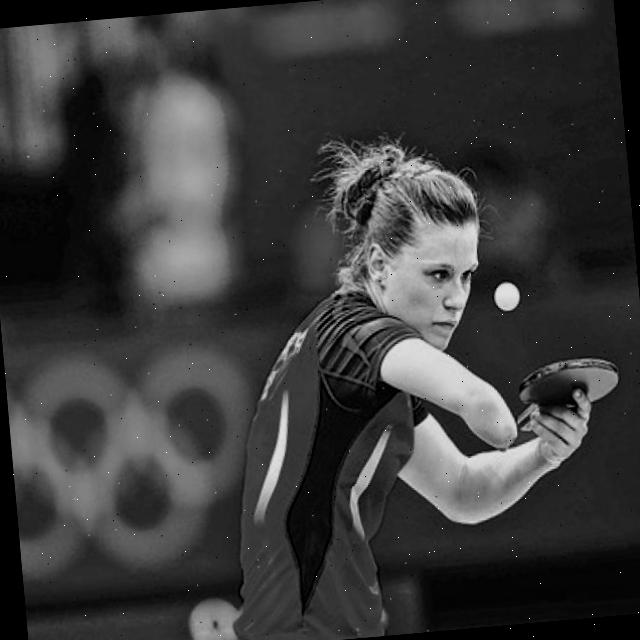ping-pong-ball: (484, 274, 522, 314)
